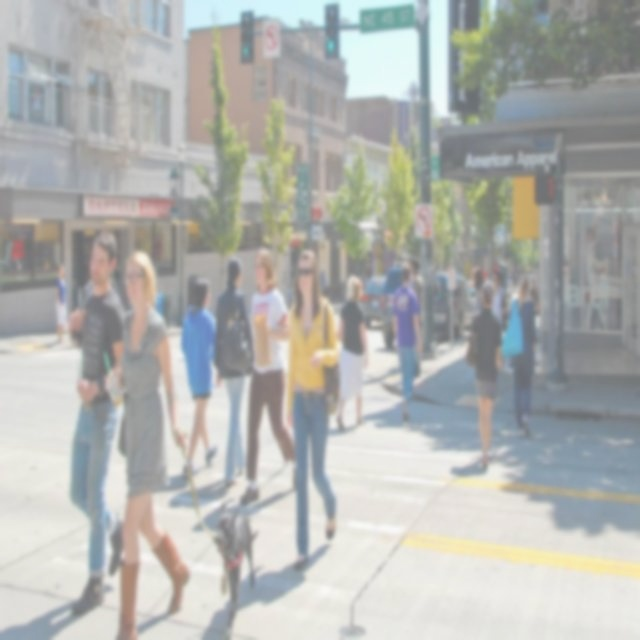pessoa: (101, 247, 192, 639), (67, 231, 125, 615), (285, 247, 343, 572), (238, 245, 297, 508), (212, 252, 256, 490), (150, 466, 296, 536), (464, 278, 504, 472), (180, 276, 218, 478), (240, 540, 334, 618), (499, 272, 538, 440), (334, 272, 370, 432), (391, 260, 424, 422), (0, 597, 88, 639), (580, 210, 610, 332), (611, 209, 635, 287), (489, 269, 508, 334), (54, 262, 68, 344), (409, 256, 424, 328), (472, 266, 486, 312), (498, 271, 507, 335), (562, 256, 572, 302), (316, 262, 328, 300), (529, 276, 540, 315), (344, 275, 350, 304)
